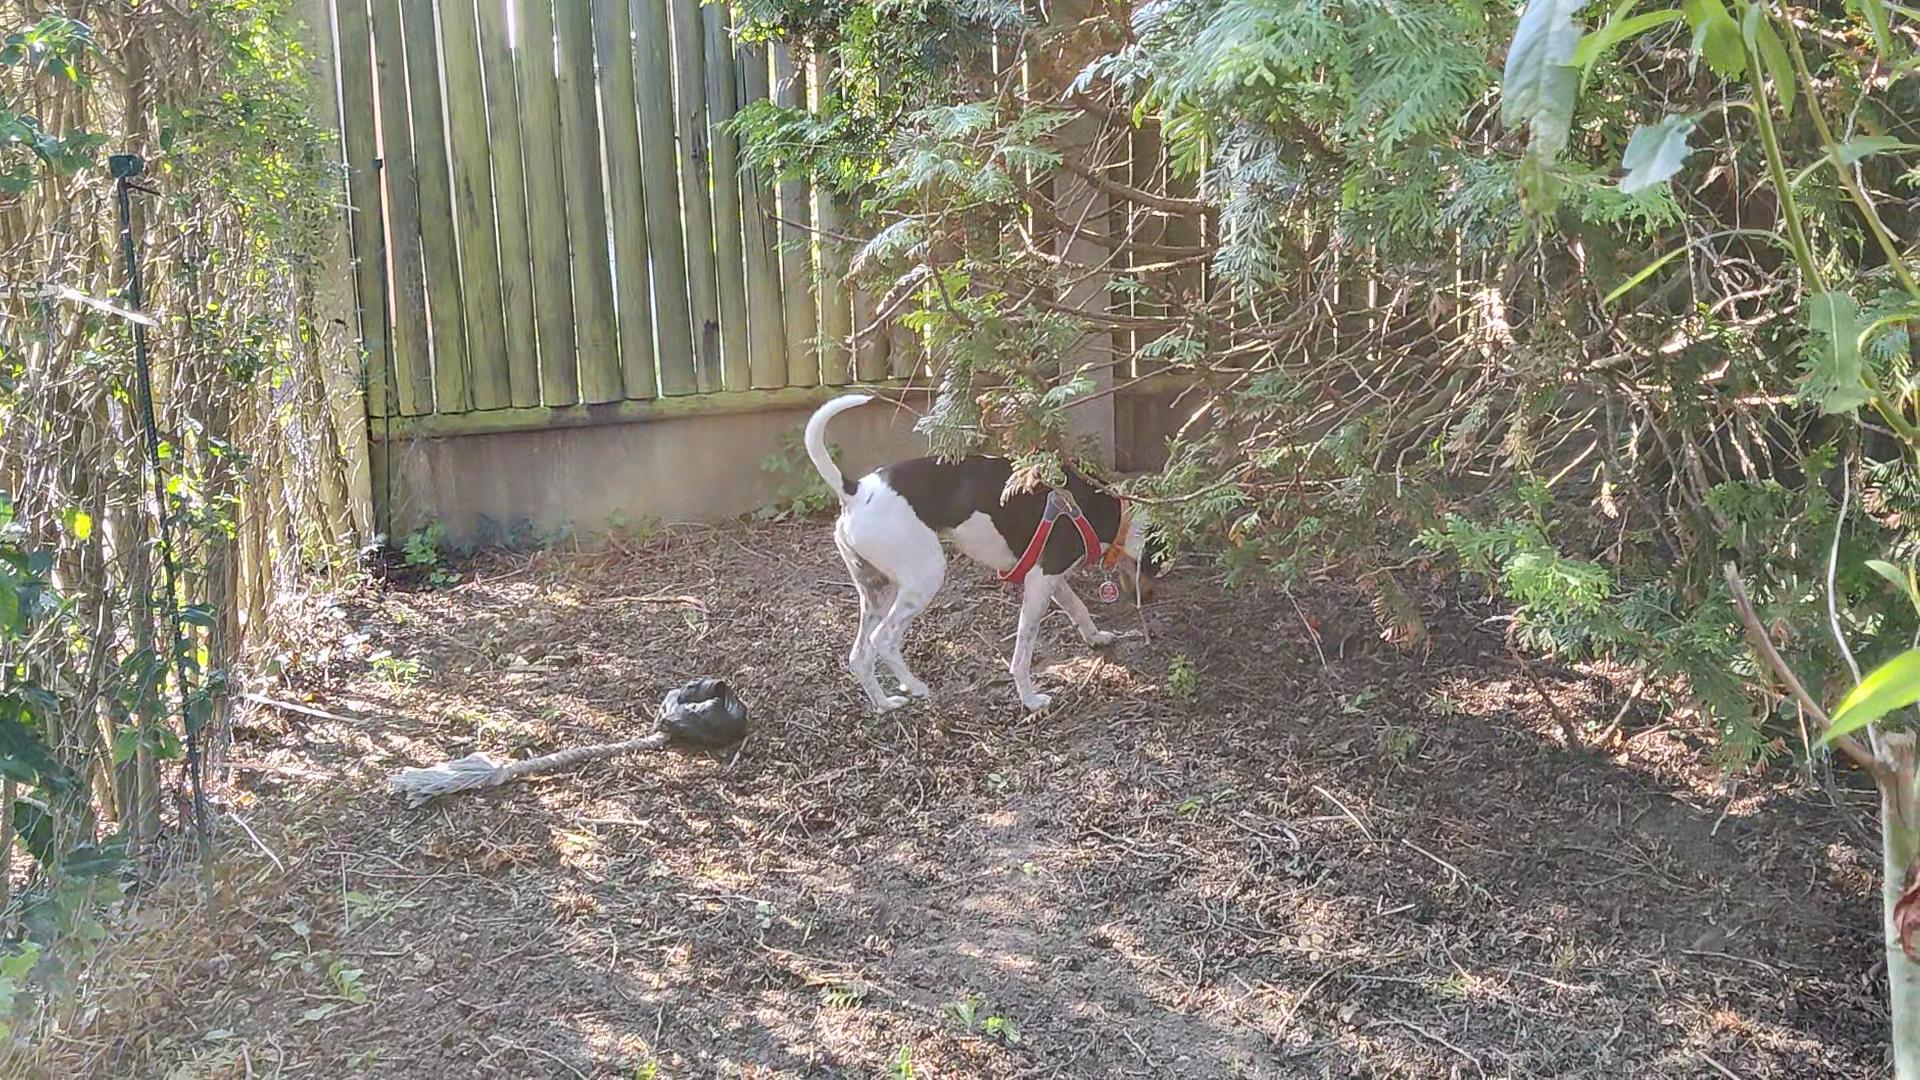Dog: (787, 378, 1195, 719)
